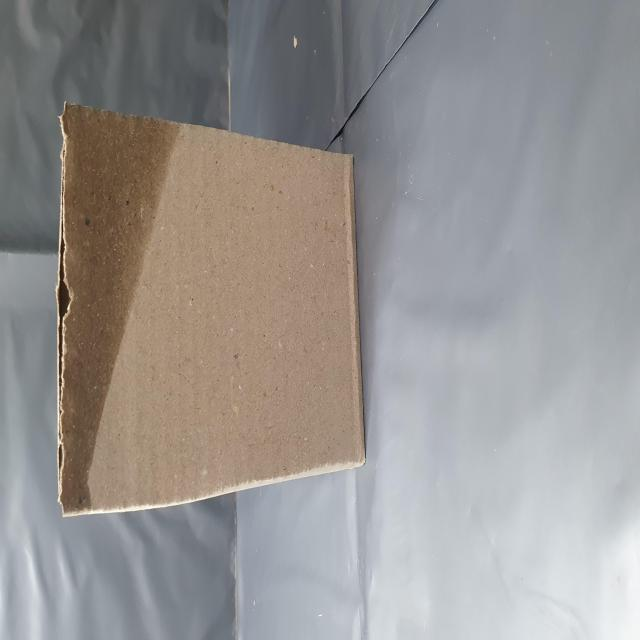wet: (75, 102, 296, 638)
